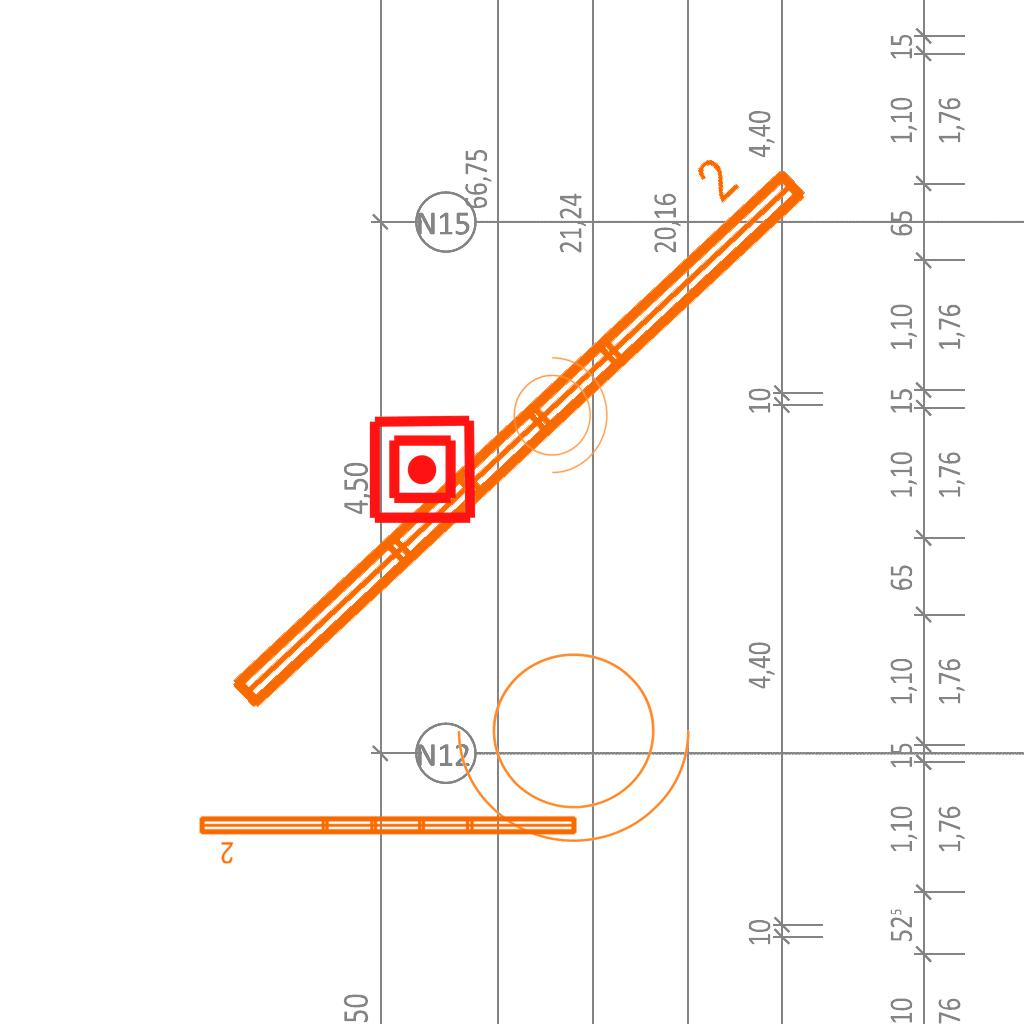Ambulanz_Pendelleuchte_LED: (179, 116, 823, 726), (195, 810, 582, 866)
NAM-Nichtautomatischer_Melder: (366, 413, 479, 526)
Scheinwerfer_fuer_Alarmbeleuchtung: (448, 628, 712, 853), (501, 346, 613, 478)
